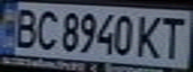0: (112, 11, 139, 57)
4: (97, 10, 118, 55)
8: (57, 8, 81, 53)
9: (75, 9, 100, 54)
B: (6, 4, 42, 50)
C: (30, 7, 60, 52)
K: (133, 12, 166, 60)
T: (157, 14, 190, 61)
